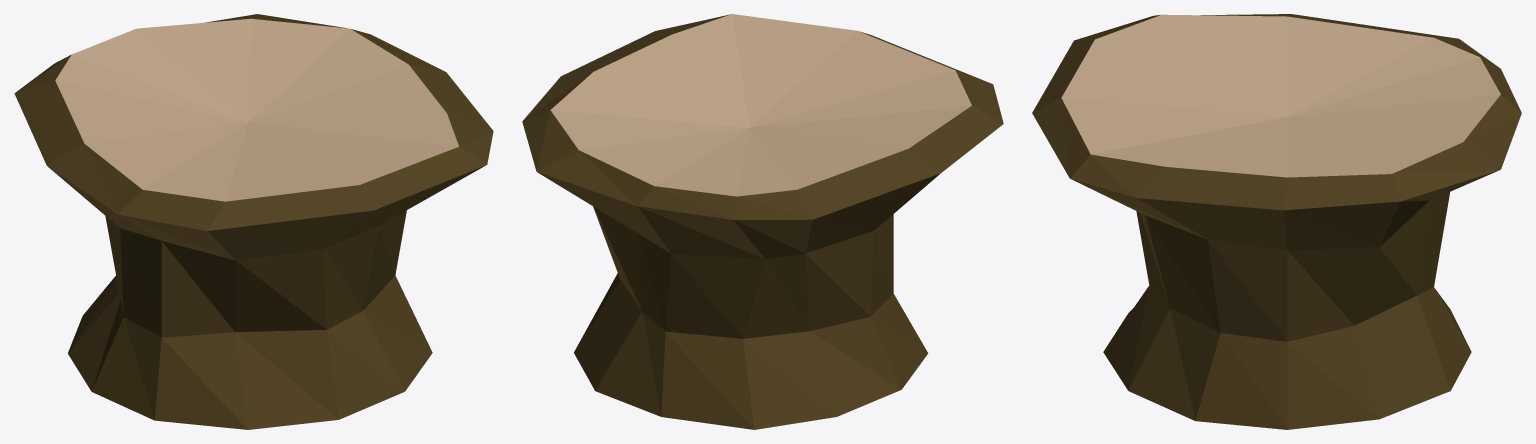
File: obj_pillar_5_0.obj
The picture shows the model from 3 angles, left to right: view 1: azimuth 30°, elevation 25°; view 2: azimuth 150°, elevation 25°; view 3: azimuth 270°, elevation 25°; orthographic projection. The views are drawn at different scales.
Size of the model in its own units: 0.8672 by 0.5234 by 0.9141.
